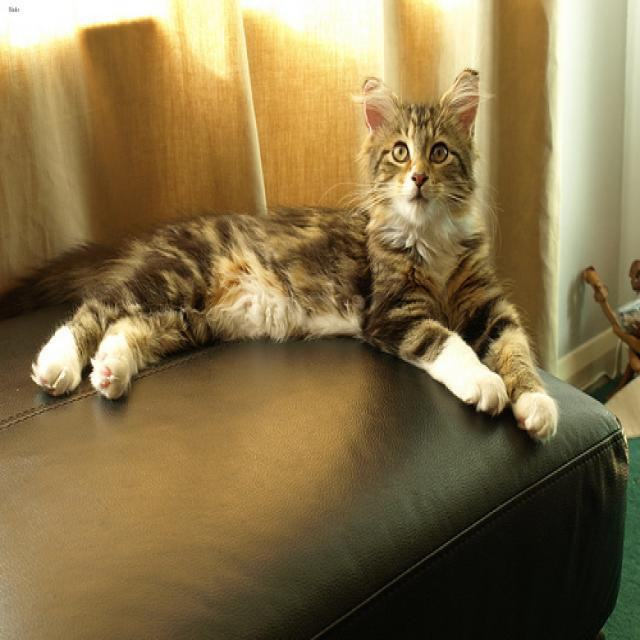Maine_Coon: (360, 66, 478, 222)
